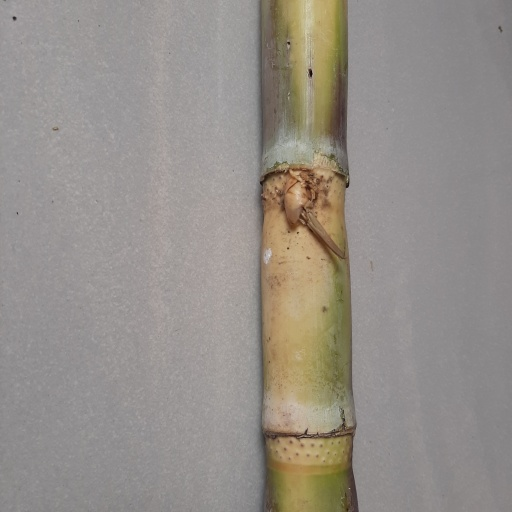Sprouted_Bud: (284, 168, 325, 241)
